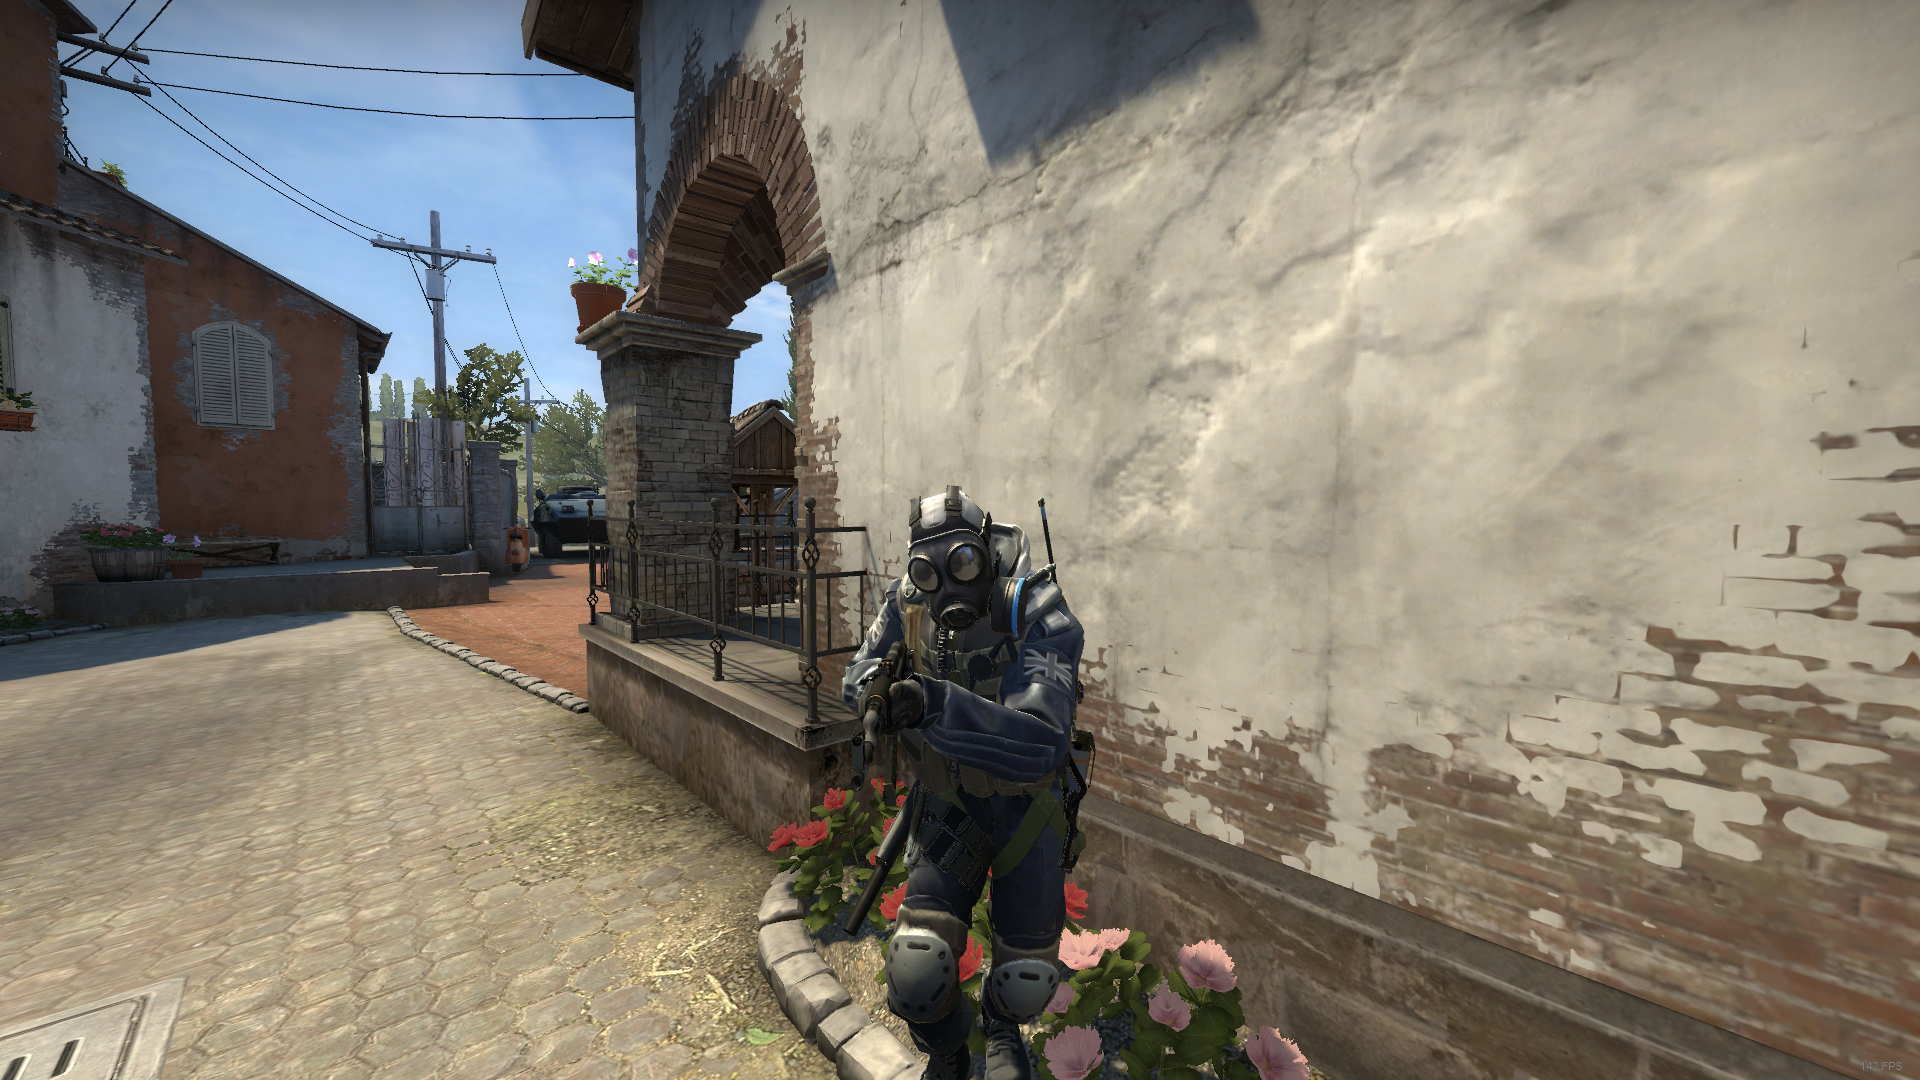ct: (839, 487, 1122, 1080)
